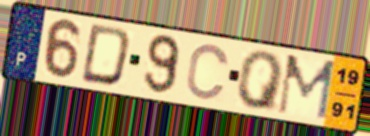6: (42, 16, 83, 82)
9: (142, 32, 183, 96)
C: (184, 42, 232, 102)
D: (78, 22, 134, 89)
M: (274, 53, 338, 123)
Q: (235, 50, 286, 114)
